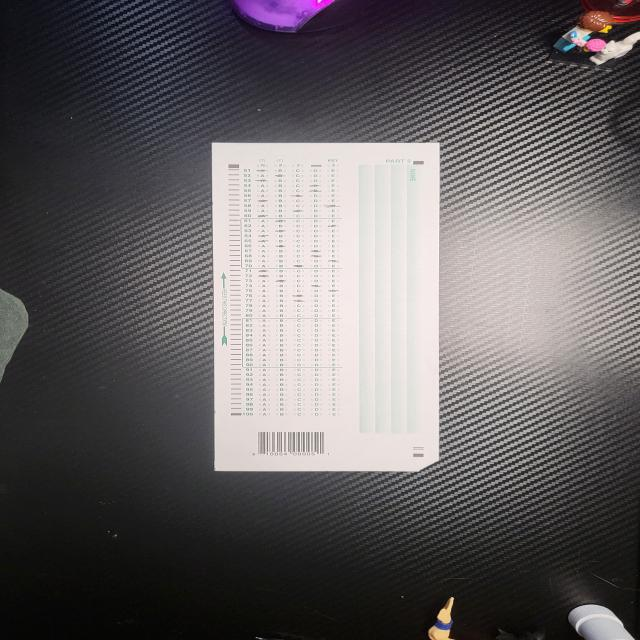scantron_back: (213, 143, 440, 472)
